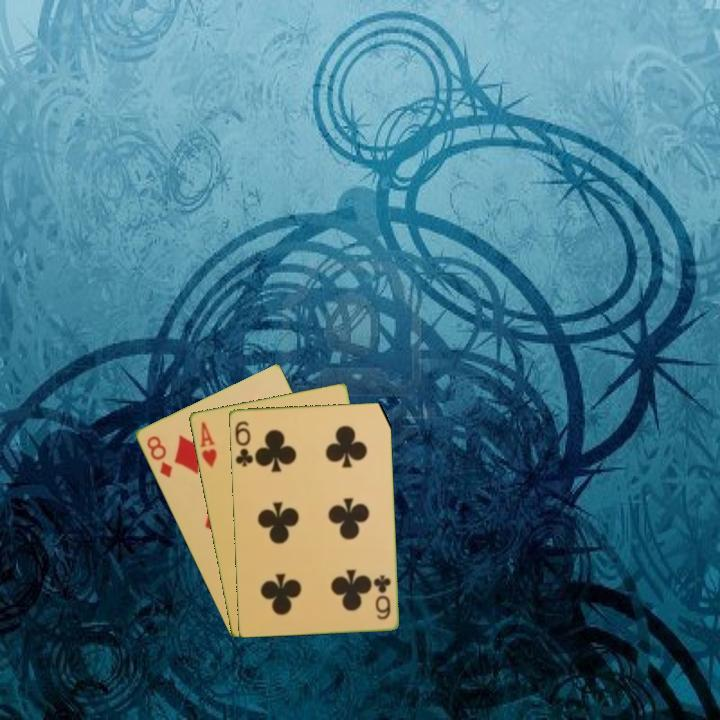6c: (231, 417, 256, 469), (371, 571, 393, 622)
8d: (143, 432, 175, 481)
Ah: (196, 418, 220, 470)
